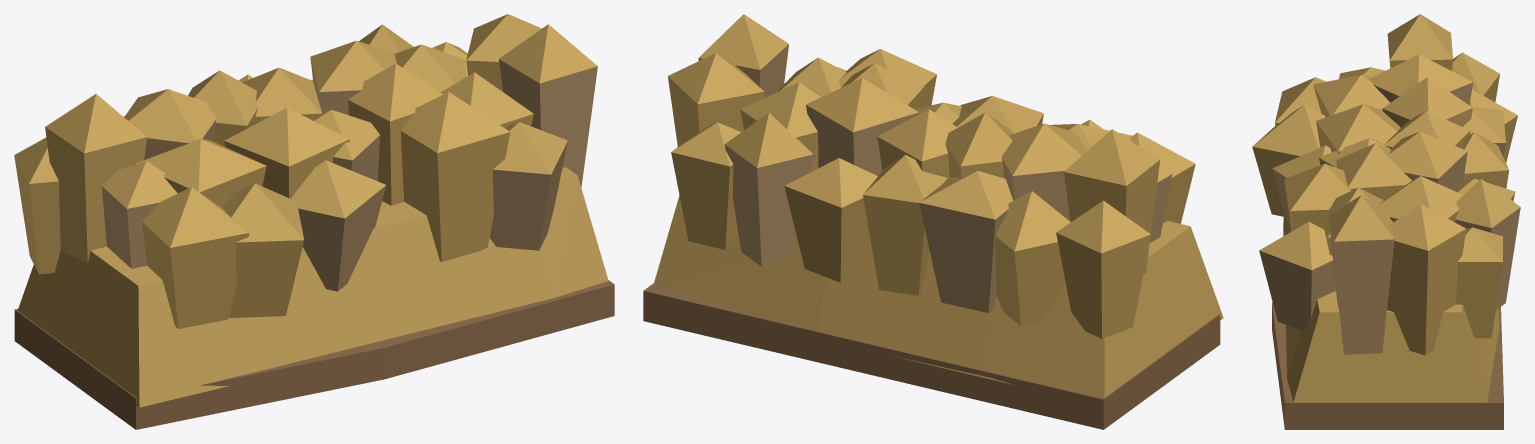
File: work-row-ripe.glb
3 views of the same model, side by side, from view 1: azimuth 30°, elevation 25°; view 2: azimuth 150°, elevation 25°; view 3: azimuth 270°, elevation 25° (orthographic). The views are drawn at different scales.
Parts seen in each view (by area): view 1: work-row-ripe; view 2: work-row-ripe; view 3: work-row-ripe.
Boxes of the visible parts, x1=… form: work-row-ripe: x1=14, y1=14, x2=614, y2=429; work-row-ripe: x1=643, y1=14, x2=1223, y2=429; work-row-ripe: x1=1252, y1=14, x2=1520, y2=429.
Bounding box in the file's own units: 2.15 × 1.09 × 1.14.
Materials: 1 (1 with a texture image).
